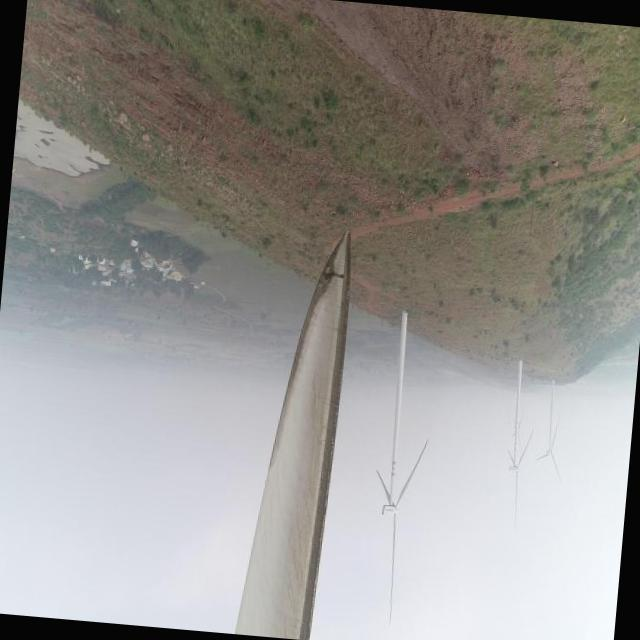Dirt: (268, 226, 355, 640)
Oil LEAKAGE: (322, 266, 346, 280)
